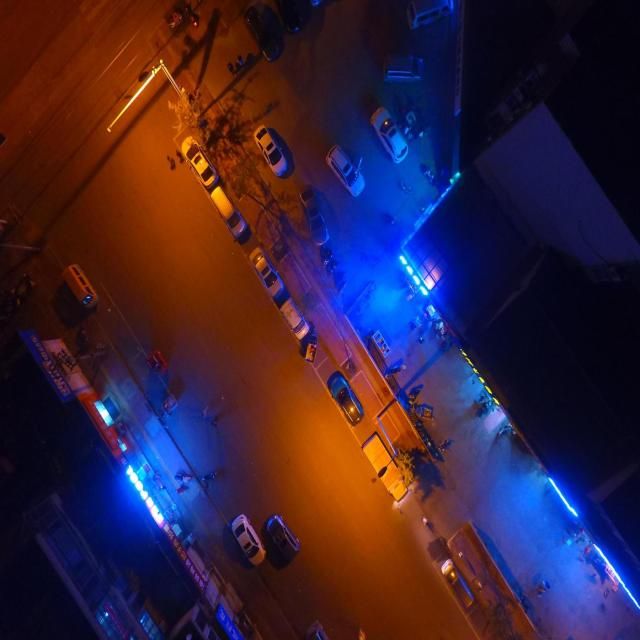car: (228, 513, 266, 566)
tree: (167, 69, 305, 257)
